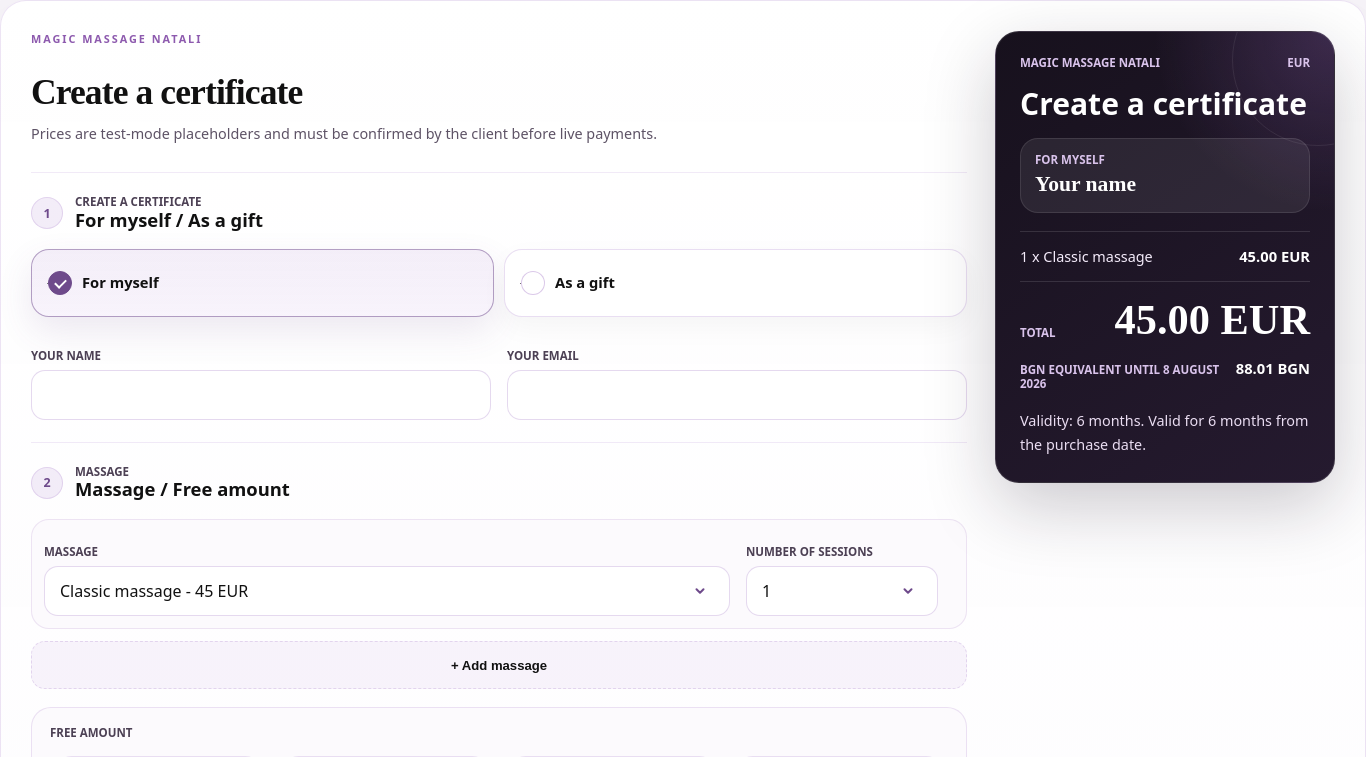
Test: GiftCertificateForm › does not offer already selected massages in additional massage rows
The image size is (1366, 757).
Click the button "+ Add massage".
click(499, 665)  # box [31, 641, 967, 689]
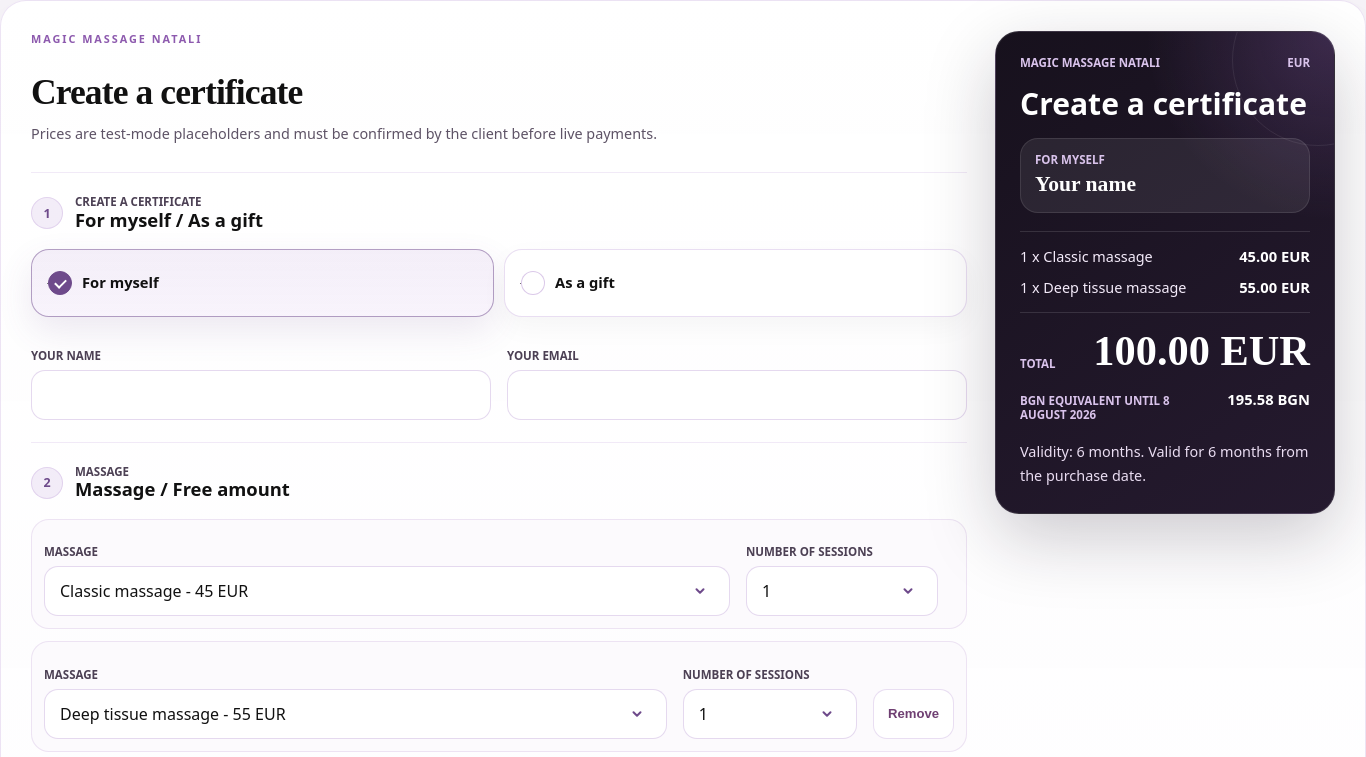
Check: the 1st dropdown labelled "Massage" shows "Classic massage - 45 EUR", box [44, 566, 730, 616]
Check: the 2nd dropdown labelled "Massage" shows "Deep tissue massage - 55 EUR", box [44, 689, 667, 739]
